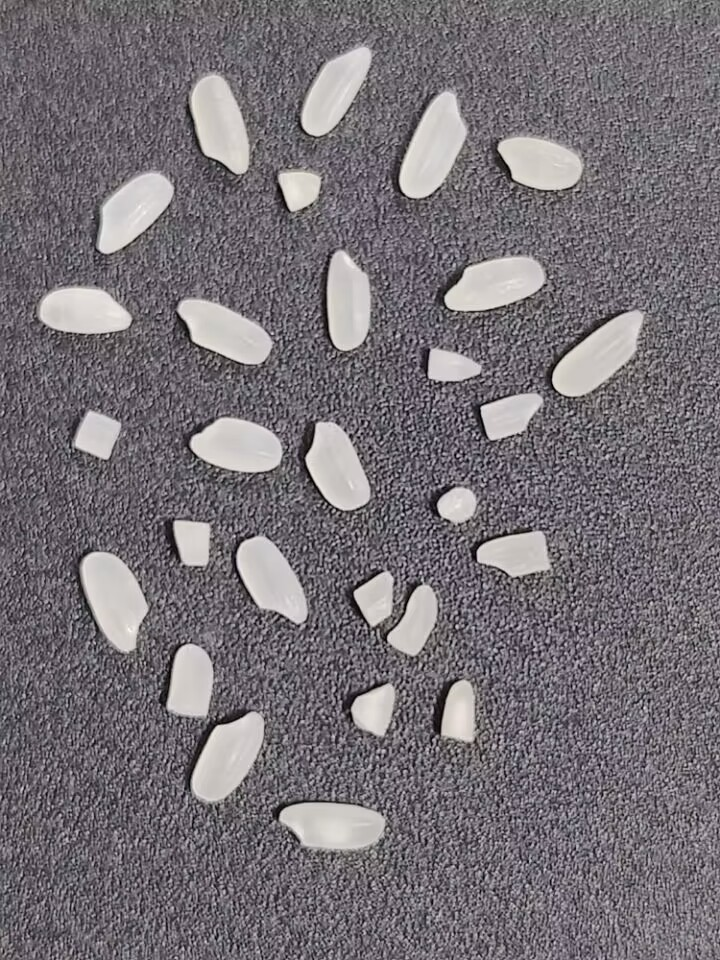broken: (383, 582, 440, 658), (472, 527, 553, 578), (63, 407, 126, 472), (476, 388, 543, 442), (165, 643, 212, 718), (350, 566, 404, 629), (166, 513, 220, 572), (435, 675, 479, 745), (422, 342, 486, 390), (348, 678, 399, 737), (275, 164, 328, 219), (434, 484, 478, 524)
rice: (548, 305, 645, 401), (396, 89, 467, 201), (75, 550, 152, 653), (231, 533, 313, 627), (439, 250, 553, 317), (173, 292, 274, 366), (190, 708, 264, 805), (299, 46, 377, 138), (93, 172, 176, 255), (322, 247, 381, 358), (303, 419, 372, 513), (188, 74, 252, 174), (276, 800, 388, 853), (187, 415, 284, 474), (36, 285, 134, 338), (494, 136, 582, 191)
